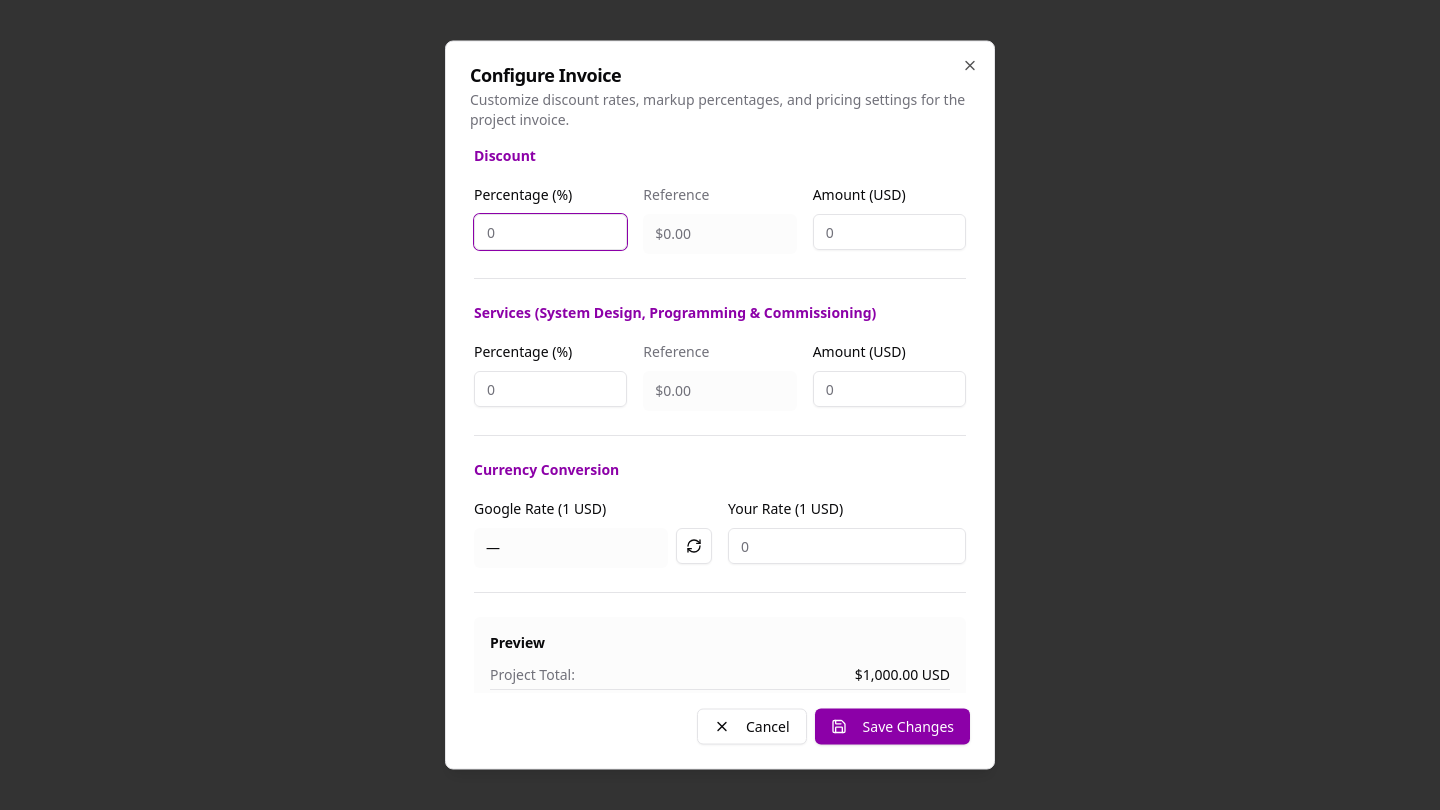
Test case: InvoiceSettingsModal › updates discount percentage and calculates reference
In the 1st number field labelled "Percentage (%)": {"x": 551, "y": 232} 474,214 -> 627,250, type "15"
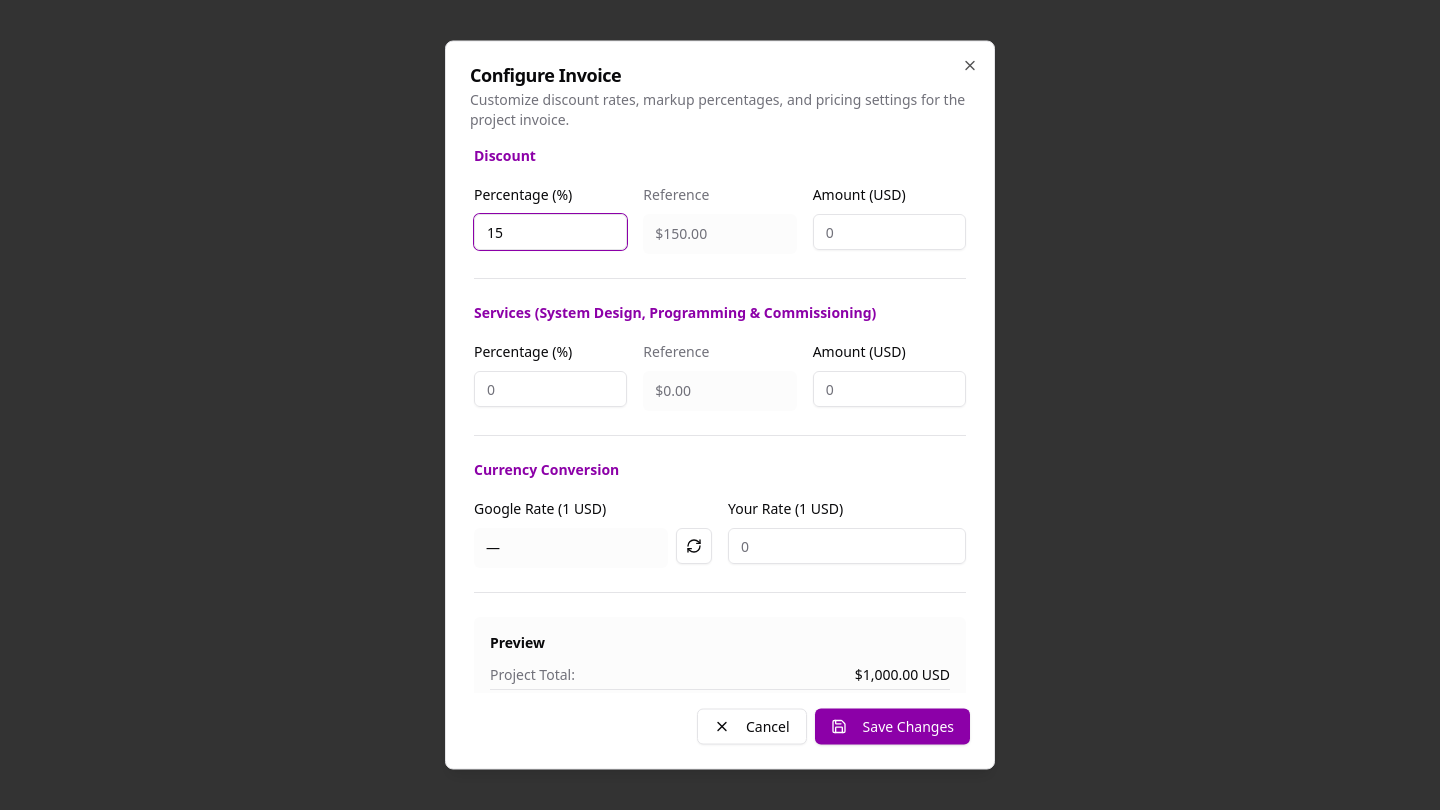
Now the text "$150.00" is shown, box 643,214 -> 797,254
